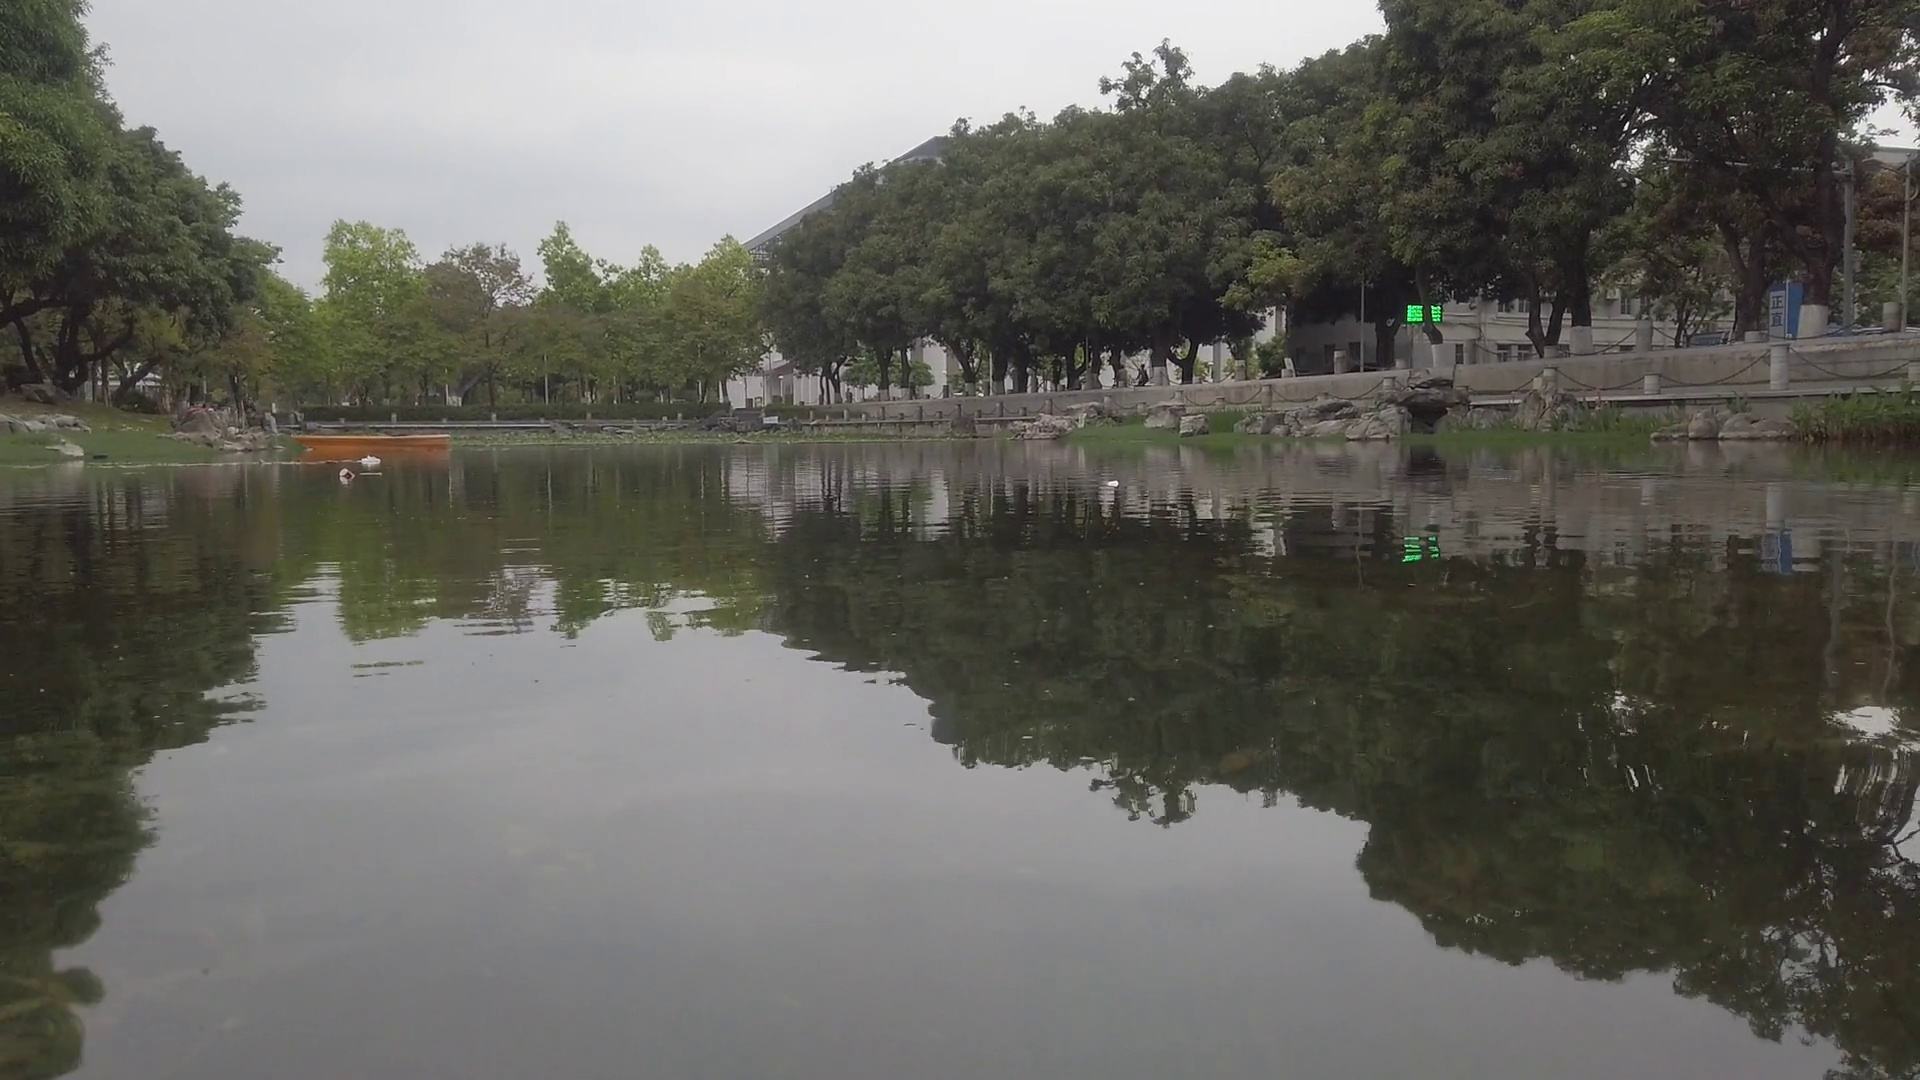bottle: (340, 469, 351, 477)
paper: (1101, 477, 1126, 491)
plastic: (363, 456, 380, 465)
